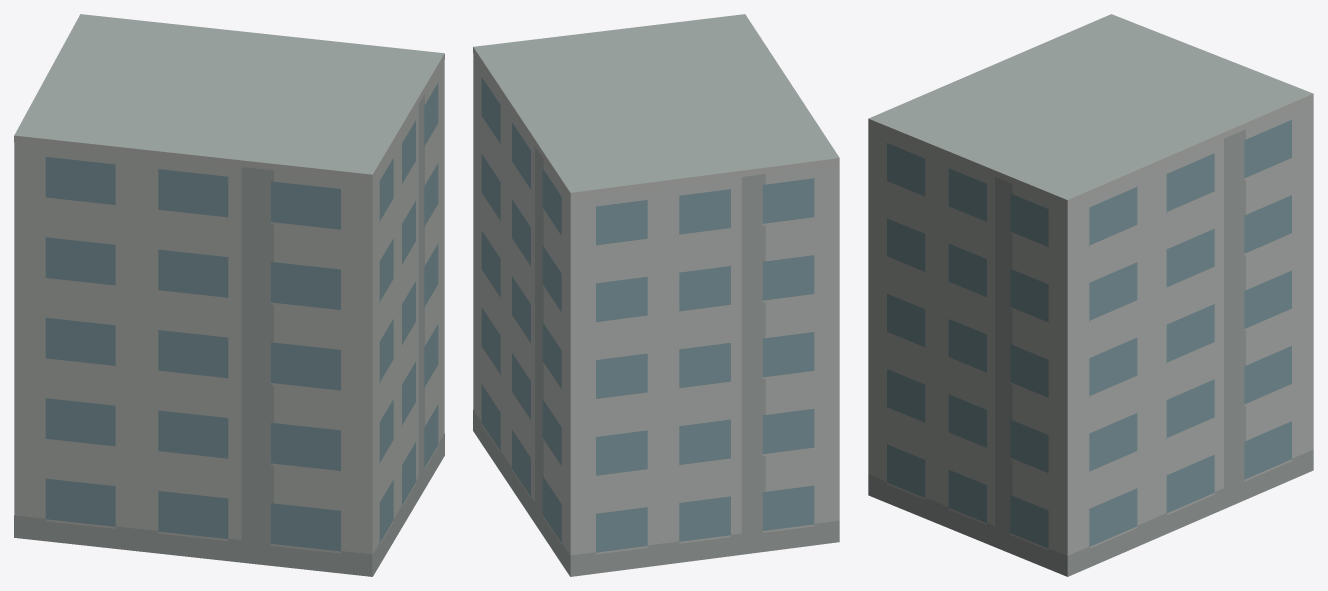
The model's file is survey-upis-32770307.glb.
The picture shows the model from 3 angles, left to right: view 1: azimuth 30°, elevation 25°; view 2: azimuth 150°, elevation 25°; view 3: azimuth 270°, elevation 25°; orthographic projection. The views are drawn at different scales.
Parts seen in each view (by area): view 1: survey-upis-32770307.tmp; view 2: survey-upis-32770307.tmp; view 3: survey-upis-32770307.tmp.
Part boxes in pixels (<box>): survey-upis-32770307.tmp: <box>14,14,444,576</box>; survey-upis-32770307.tmp: <box>473,14,839,576</box>; survey-upis-32770307.tmp: <box>868,14,1313,576</box>.
Size of the model in its own units: 15.58 by 14.7 by 15.75.
